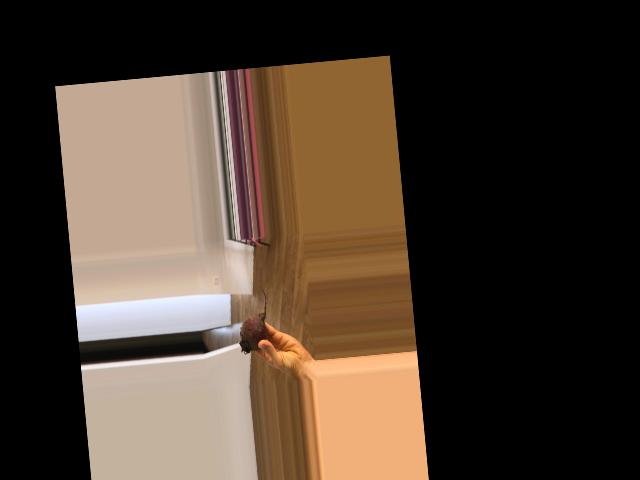beet: (234, 286, 271, 353)
